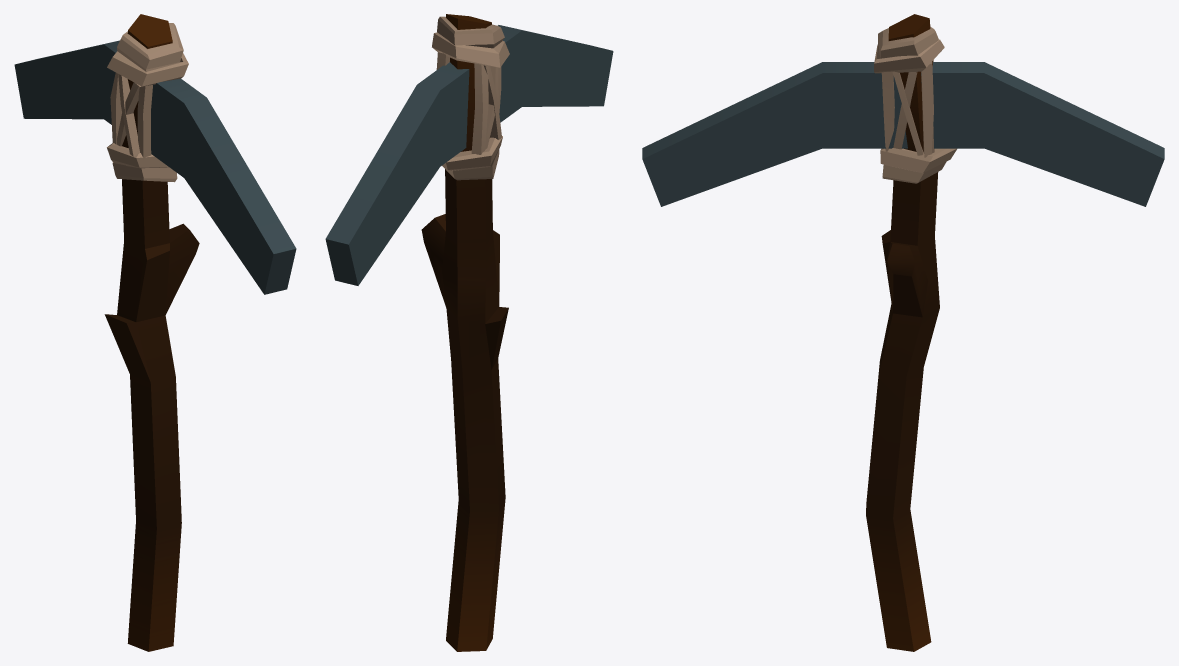
The model's file is Pickaxe Iron.fbx.
The picture shows the model from 3 angles, left to right: view 1: azimuth 30°, elevation 25°; view 2: azimuth 150°, elevation 25°; view 3: azimuth 270°, elevation 25°; orthographic projection. The views are drawn at different scales.
Parts seen in each view (by area): view 1: PickaxeIron; view 2: PickaxeIron; view 3: PickaxeIron.
Boxes of the visible parts, left/top/right/bottom form: PickaxeIron: left=14, top=14, right=296, bottom=651; PickaxeIron: left=325, top=14, right=613, bottom=651; PickaxeIron: left=642, top=14, right=1164, bottom=651.
Size of the model in its own units: 25.89 by 187 by 142.
